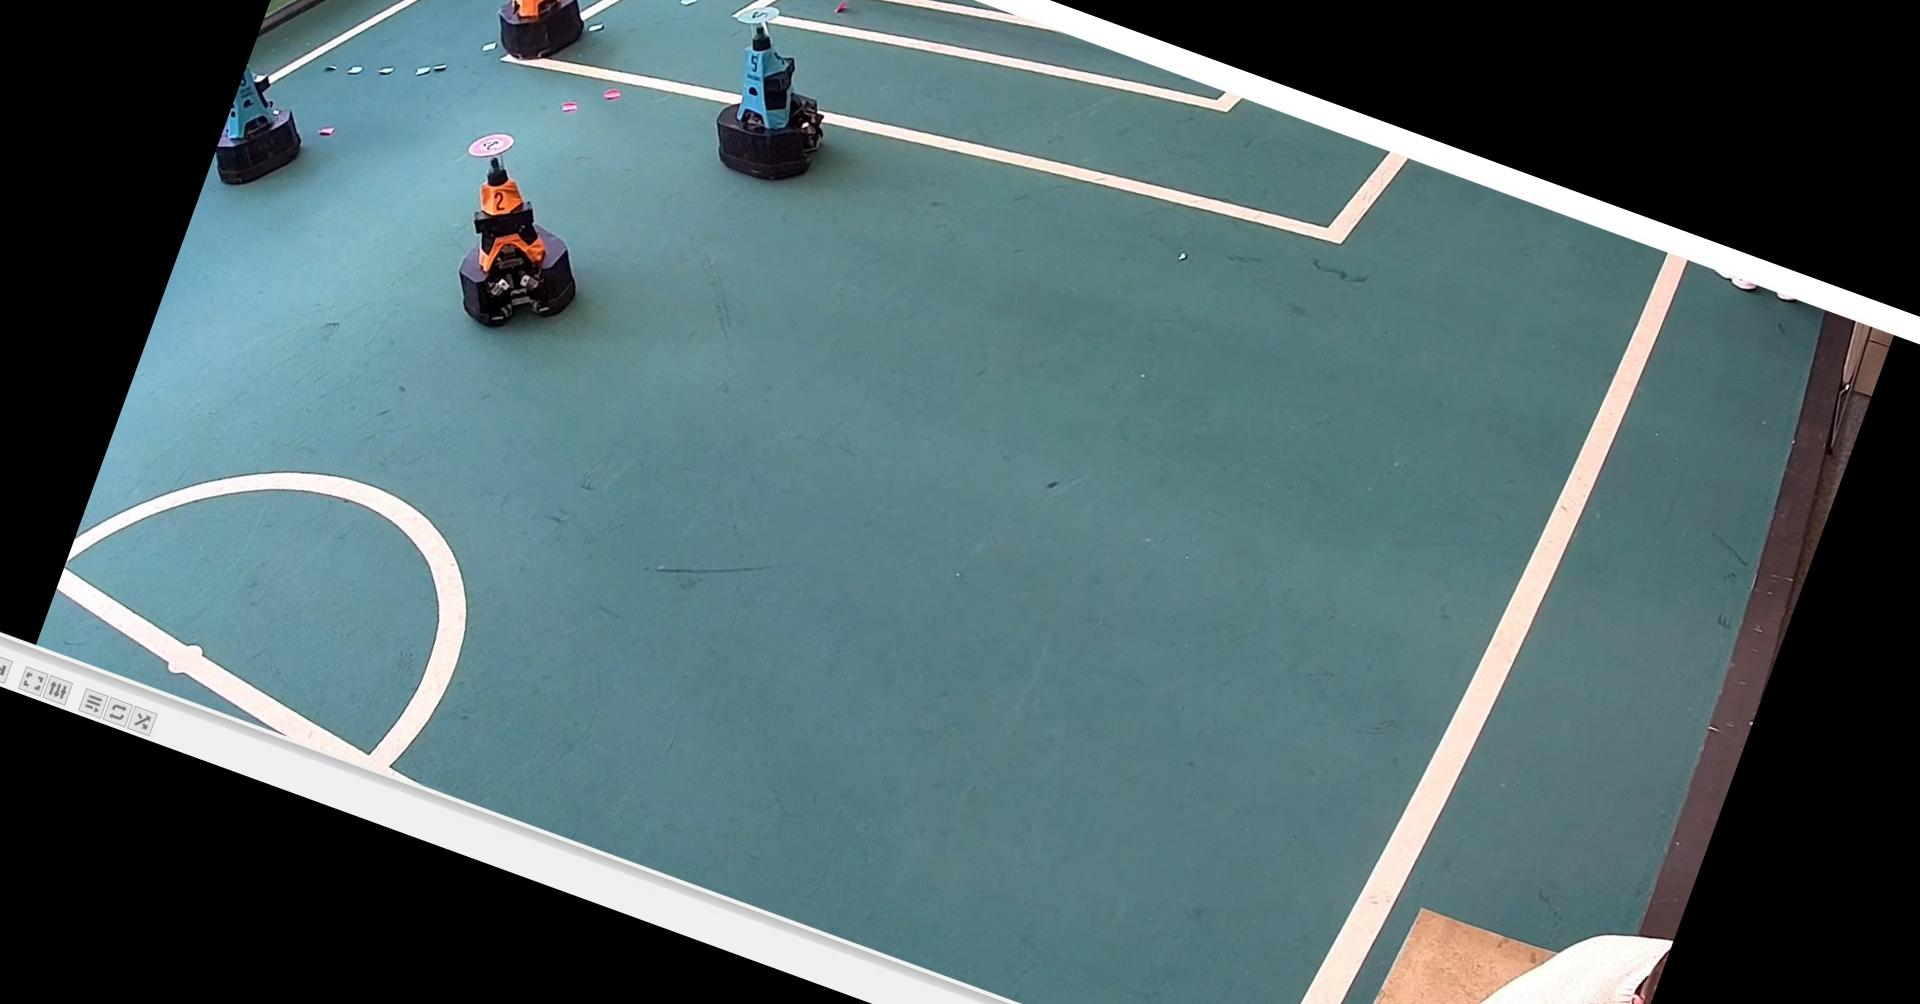Team_Blue: (683, 0, 875, 203), (207, 44, 344, 207)
Team_Red: (410, 113, 626, 354), (455, 0, 625, 88)
